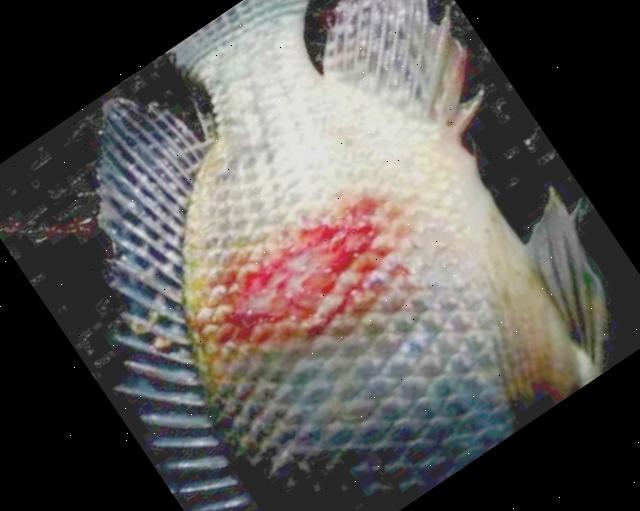Tilapia Lake Virus -TiLV-: (96, 0, 605, 511)
